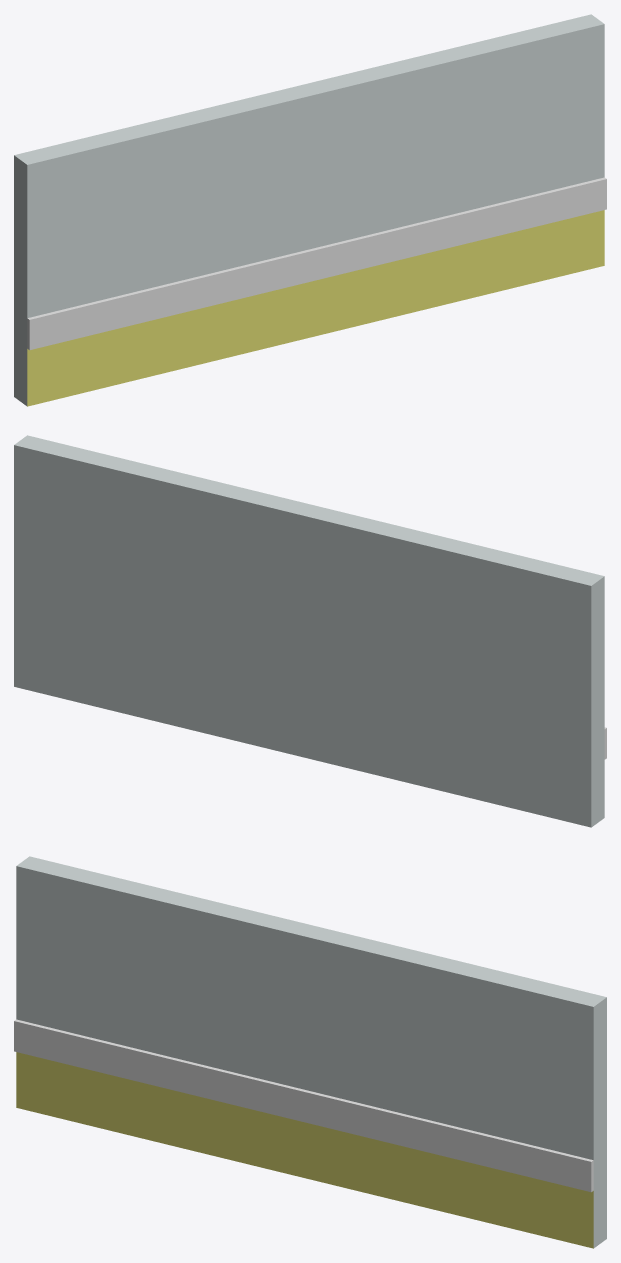
Rendered from wall (1).fbx.
3 views of the same model, one above another, from view 1: azimuth 30°, elevation 25°; view 2: azimuth 150°, elevation 25°; view 3: azimuth 330°, elevation 25° (orthographic).
Visible parts, largest first — view 1: Cube; view 2: Cube; view 3: Cube.
Boxes of the visible parts, left/top/right/bottom form: Cube: left=14, top=14, right=606, bottom=406; Cube: left=14, top=435, right=606, bottom=827; Cube: left=14, top=856, right=606, bottom=1248.
Bounding box in the file's own units: 29.27 × 250 × 625.
